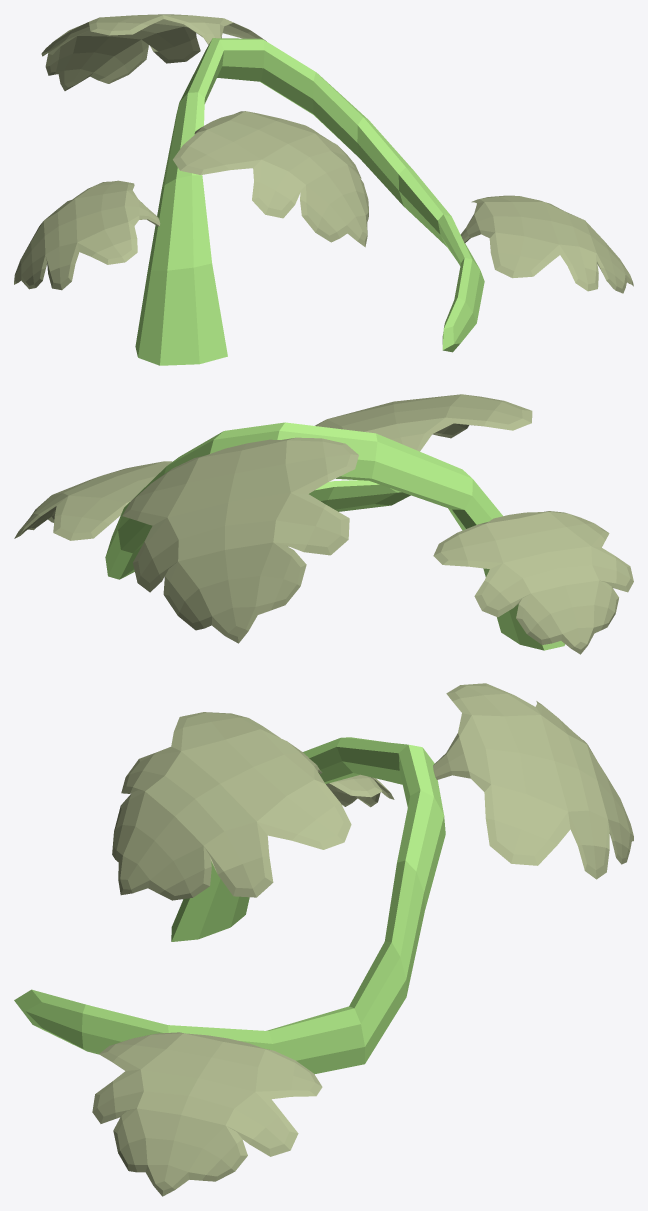
The model's file is pumpkin_3.glb.
The picture shows the model from 3 angles, top to bottom: view 1: azimuth 30°, elevation 25°; view 2: azimuth 150°, elevation 25°; view 3: azimuth 270°, elevation 25°; orthographic projection. The views are drawn at different scales.
Visible parts, largest first — view 1: Pumpkin_3; view 2: Pumpkin_3; view 3: Pumpkin_3.
Boxes of the visible parts, bbox=[...] form: Pumpkin_3: bbox=[14, 14, 633, 365]; Pumpkin_3: bbox=[14, 394, 633, 654]; Pumpkin_3: bbox=[14, 683, 633, 1196].
Bounding box in the file's own units: 0.8754 × 0.3933 × 0.7492.
